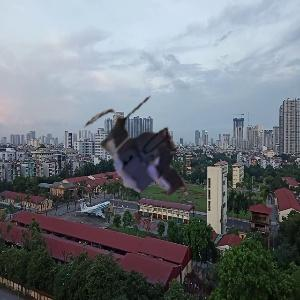drone: (73, 95, 206, 228)
